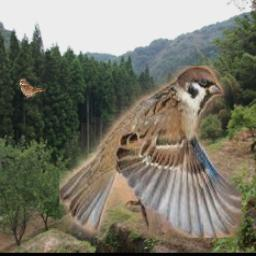Sparrow: (59, 66, 242, 238), (19, 77, 46, 99)
